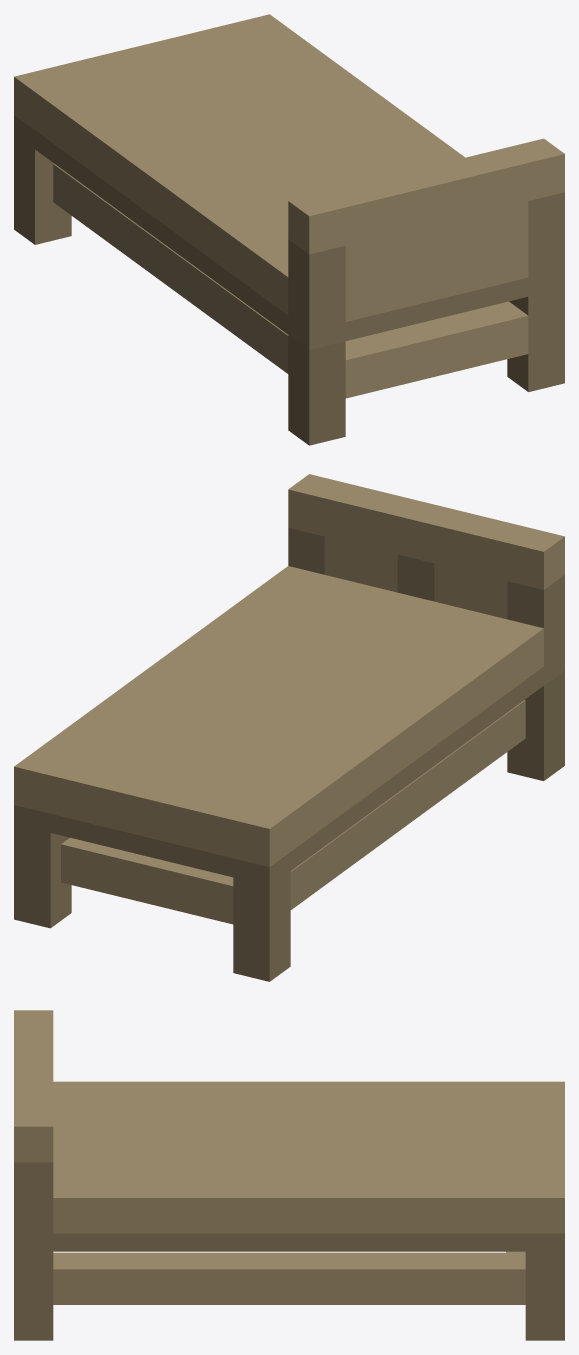
File: banco_carpintero_desgastada_01.glb
3 renders of one model, top to bottom at view 1: azimuth 30°, elevation 25°; view 2: azimuth 150°, elevation 25°; view 3: azimuth 270°, elevation 25°, orthographic. The views are drawn at different scales.
Parts seen in each view (by area): view 1: banco_carpintero_desgastada; view 2: banco_carpintero_desgastada; view 3: banco_carpintero_desgastada.
Boxes of the visible parts, left/top/right/bottom form: banco_carpintero_desgastada: left=14, top=14, right=564, bottom=445; banco_carpintero_desgastada: left=14, top=474, right=564, bottom=981; banco_carpintero_desgastada: left=14, top=1010, right=564, bottom=1340.
Size of the model in its own units: 1 by 0.8571 by 2.
